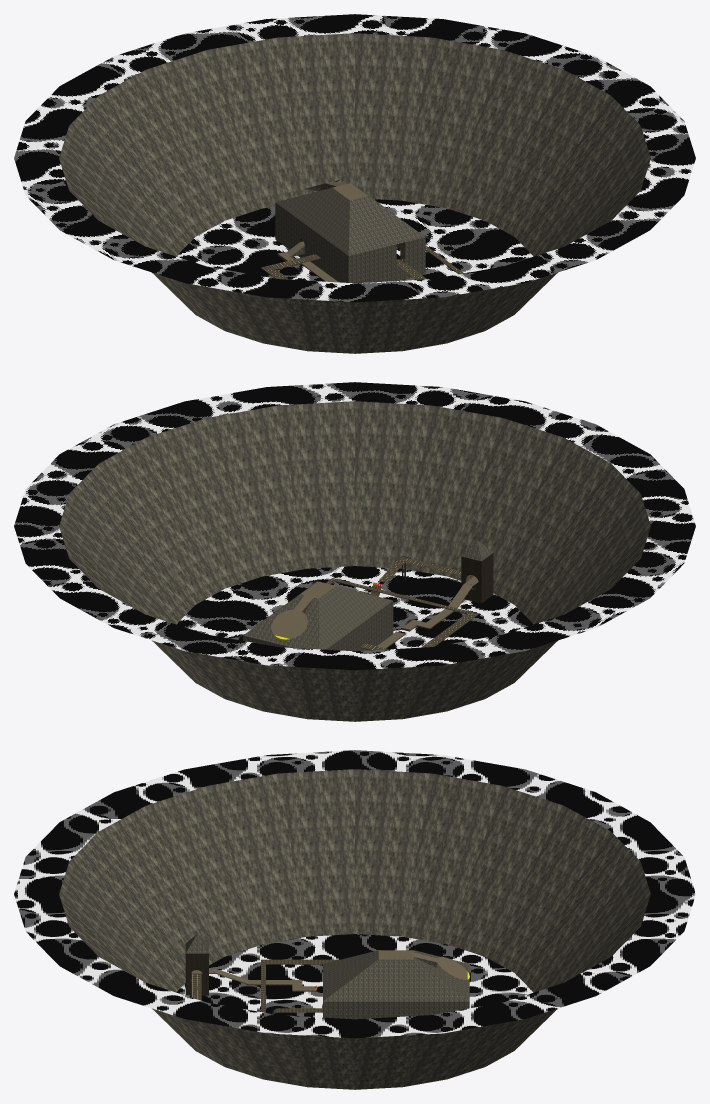
The picture shows the model from 3 angles, top to bottom: view 1: azimuth 30°, elevation 25°; view 2: azimuth 150°, elevation 25°; view 3: azimuth 270°, elevation 25°; orthographic projection.
Visible parts, largest first — view 1: doraWGM-SKP--mat10.001, doraWGM-SKP--mat5.001, doraWGM-SKP--mat9.001, doraWGM-SKP--mat7.001, doraWGM-SKP--mat3.001; view 2: doraWGM-SKP--mat10.001, doraWGM-SKP--mat5.001, doraWGM-SKP--mat9.001, doraWGM-SKP--mat7.001, doraWGM-SKP--mat8.001, doraWGM-SKP--mat4.001, doraWGM-SKP--mat3.001; view 3: doraWGM-SKP--mat10.001, doraWGM-SKP--mat5.001, doraWGM-SKP--mat9.001, doraWGM-SKP--mat7.001, doraWGM-SKP--mat8.001, doraWGM-SKP--mat3.001, doraWGM-SKP--mat4.001.
Boxes of the visible parts, x1,y1,x2,y2 form: doraWGM-SKP--mat10.001: [59, 33, 650, 353]; doraWGM-SKP--mat5.001: [14, 14, 695, 302]; doraWGM-SKP--mat9.001: [261, 180, 458, 283]; doraWGM-SKP--mat7.001: [278, 181, 367, 282]; doraWGM-SKP--mat3.001: [261, 245, 463, 279]; doraWGM-SKP--mat10.001: [59, 401, 650, 721]; doraWGM-SKP--mat5.001: [14, 382, 695, 670]; doraWGM-SKP--mat9.001: [243, 540, 492, 651]; doraWGM-SKP--mat7.001: [271, 576, 478, 648]; doraWGM-SKP--mat8.001: [402, 553, 493, 603]; doraWGM-SKP--mat4.001: [333, 557, 477, 650]; doraWGM-SKP--mat3.001: [325, 557, 478, 647]; doraWGM-SKP--mat10.001: [59, 769, 650, 1089]; doraWGM-SKP--mat5.001: [14, 750, 695, 1038]; doraWGM-SKP--mat9.001: [185, 934, 469, 1019]; doraWGM-SKP--mat7.001: [191, 950, 467, 990]; doraWGM-SKP--mat8.001: [185, 953, 208, 995]; doraWGM-SKP--mat3.001: [261, 959, 339, 1014]; doraWGM-SKP--mat4.001: [191, 960, 265, 1012].
Size of the model in its own units: 270458 by 51503 by 270458.
15 materials, 15 textured.
